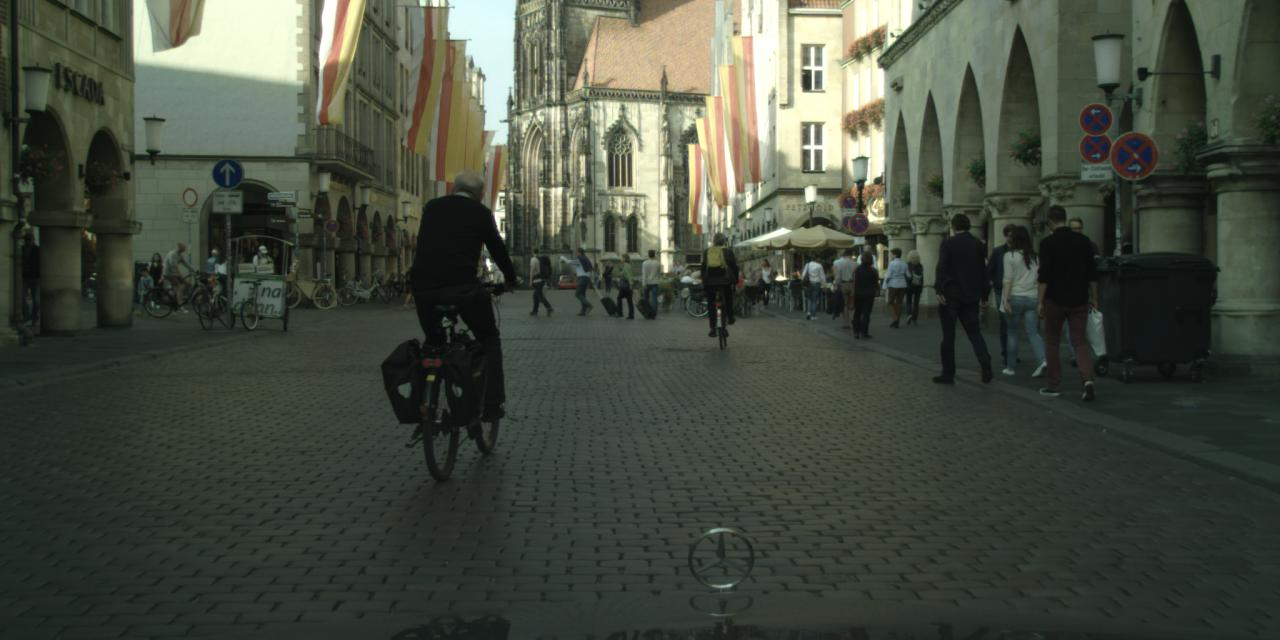ped: (419, 172, 512, 396), (1025, 204, 1103, 394), (929, 212, 998, 380), (991, 225, 1051, 372), (1046, 218, 1105, 362), (982, 223, 1038, 363), (700, 232, 740, 327), (12, 233, 48, 323), (846, 250, 880, 336), (878, 247, 910, 326), (834, 249, 864, 327), (738, 257, 784, 306), (897, 250, 927, 322), (636, 248, 664, 316), (168, 241, 195, 310), (799, 250, 826, 318), (524, 246, 551, 314), (568, 247, 596, 312), (852, 244, 878, 309), (612, 253, 637, 317), (144, 252, 166, 306), (204, 250, 225, 300), (227, 254, 247, 306), (217, 256, 237, 307), (134, 266, 154, 314), (402, 264, 420, 306), (671, 260, 685, 294), (600, 260, 614, 294), (679, 268, 702, 284), (588, 263, 600, 293), (786, 274, 789, 280)
